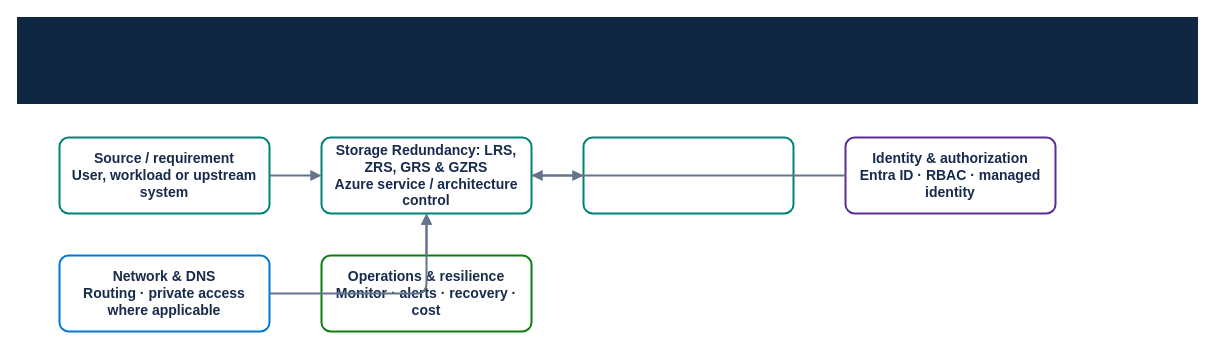
This 1215x350 diagram has some shape labels left out. Each missing label, with the centre of its shape:
"Storage Redundancy: LRS, ZRS, GRS & GZRS" belongs at (x=607, y=60).
"Workload / consumer Application, data or operational outcome" belongs at (x=688, y=175).
